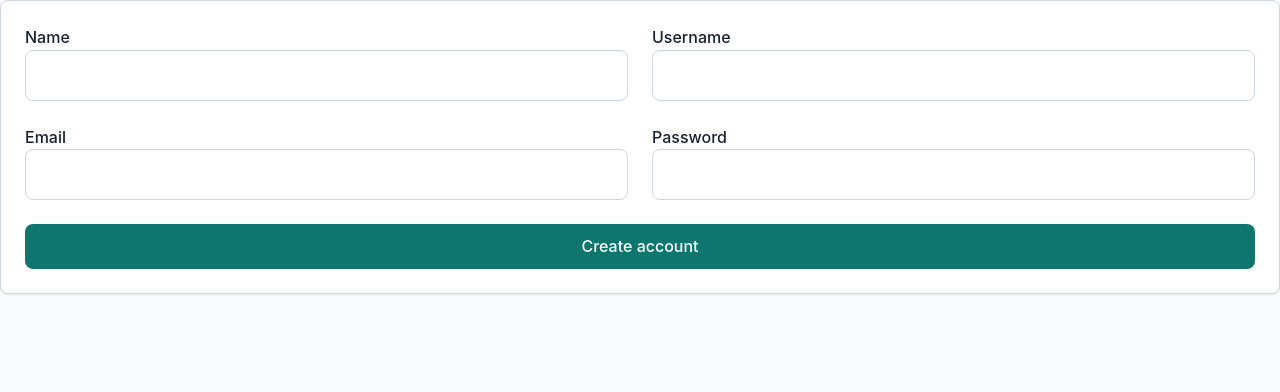
Test: RegistrationForm › prevents submission when username format or password strength is invalid
The width and height of the screenshot is (1280, 392).
Type "Ada Lovelace" into the field labelled "Name".
click(326, 75); type("Ada Lovelace")  # box [25,50,628,101]
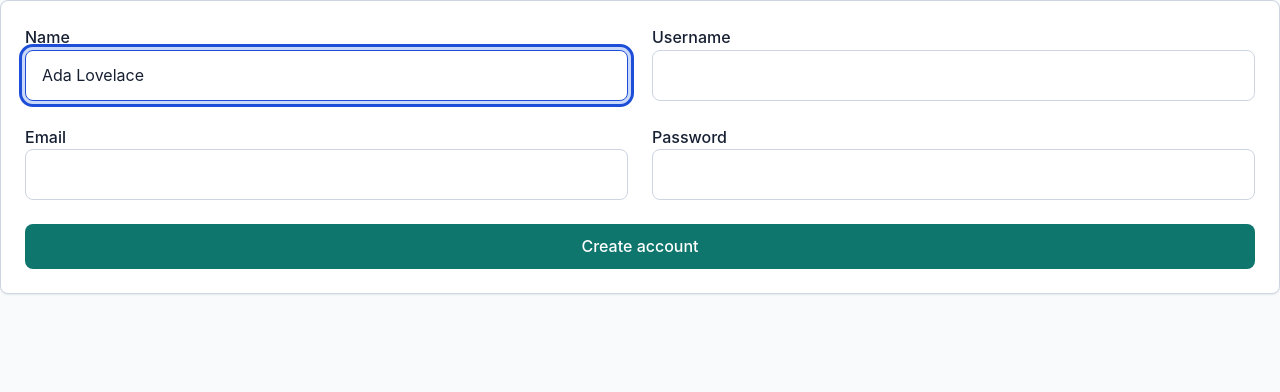
Type "ada lovelace" into the field labelled "Username".
click(954, 75); type("ada lovelace")  # box [652,50,1255,101]
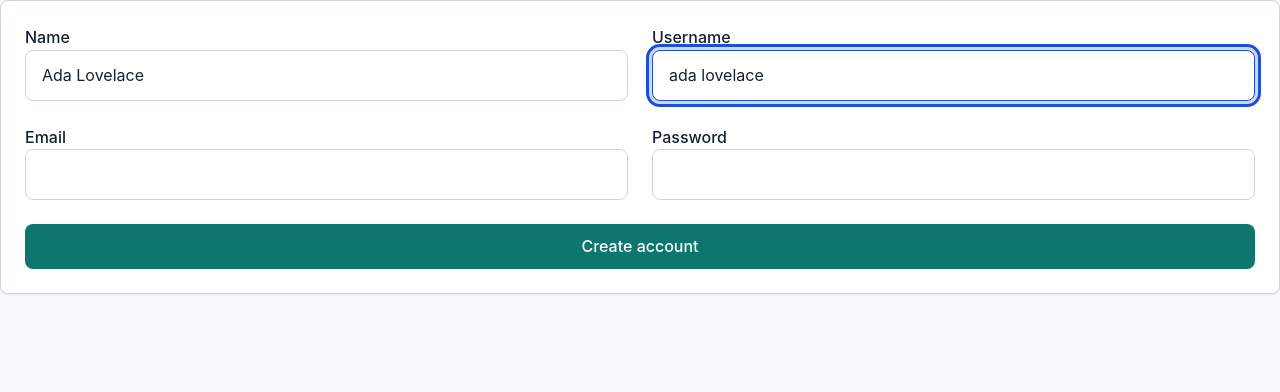
Type "ada@example.com" into the field labelled "Email".
click(326, 175); type("ada@example.com")  # box [25,149,628,200]
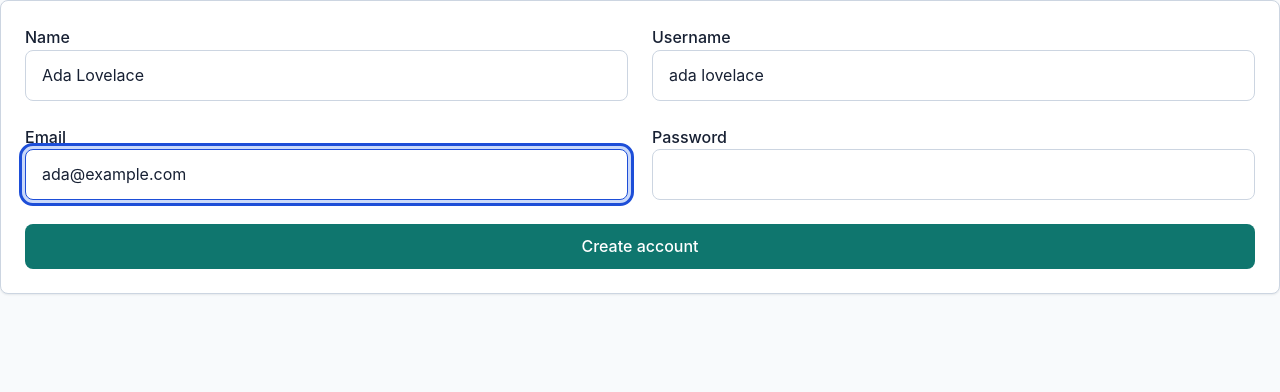
Type "short" into the password field labelled "Password".
click(954, 175); type("short")  # box [652,149,1255,200]
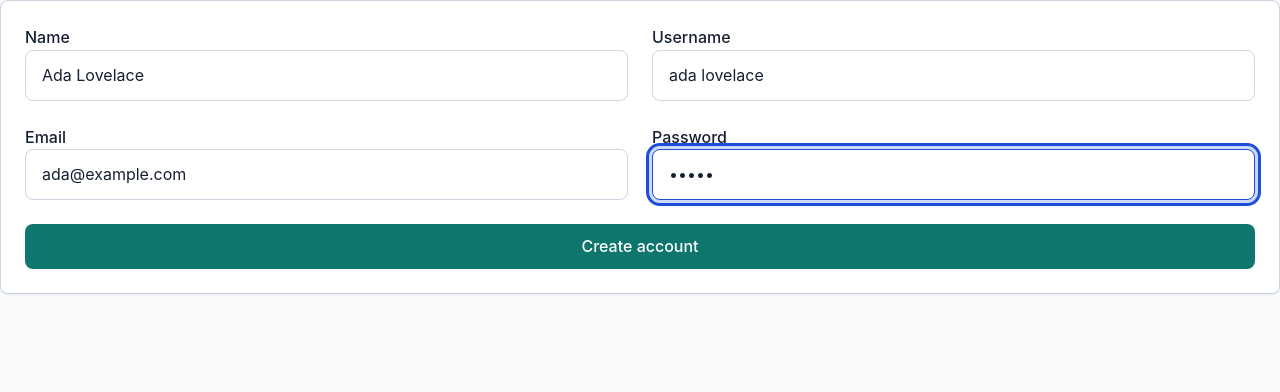
Click the button "Create account".
click(640, 246)  # box [25,224,1255,269]
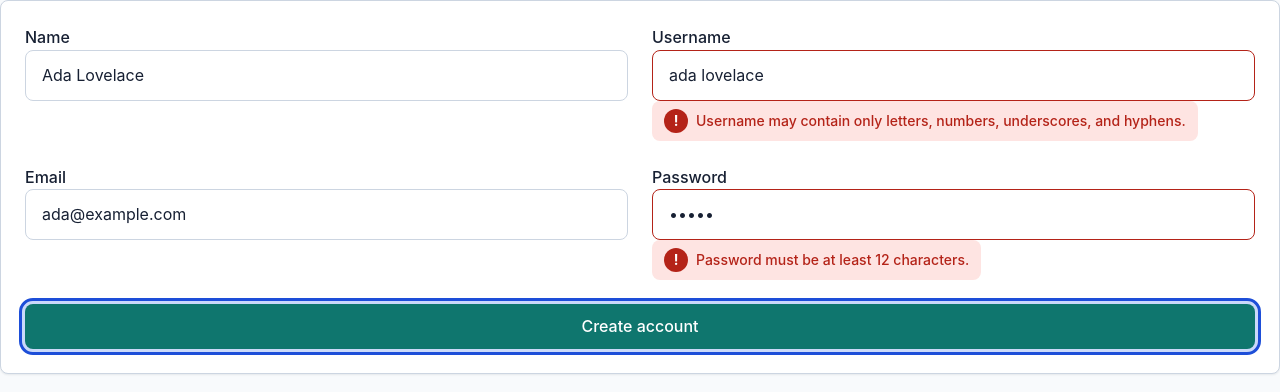
Check: the text "Username may contain only letters, numbers, underscores, and hyphens." is shown, box [696,111,1186,130]
Check: the text "Password must be at least 12 characters." is shown, box [696,250,969,270]
